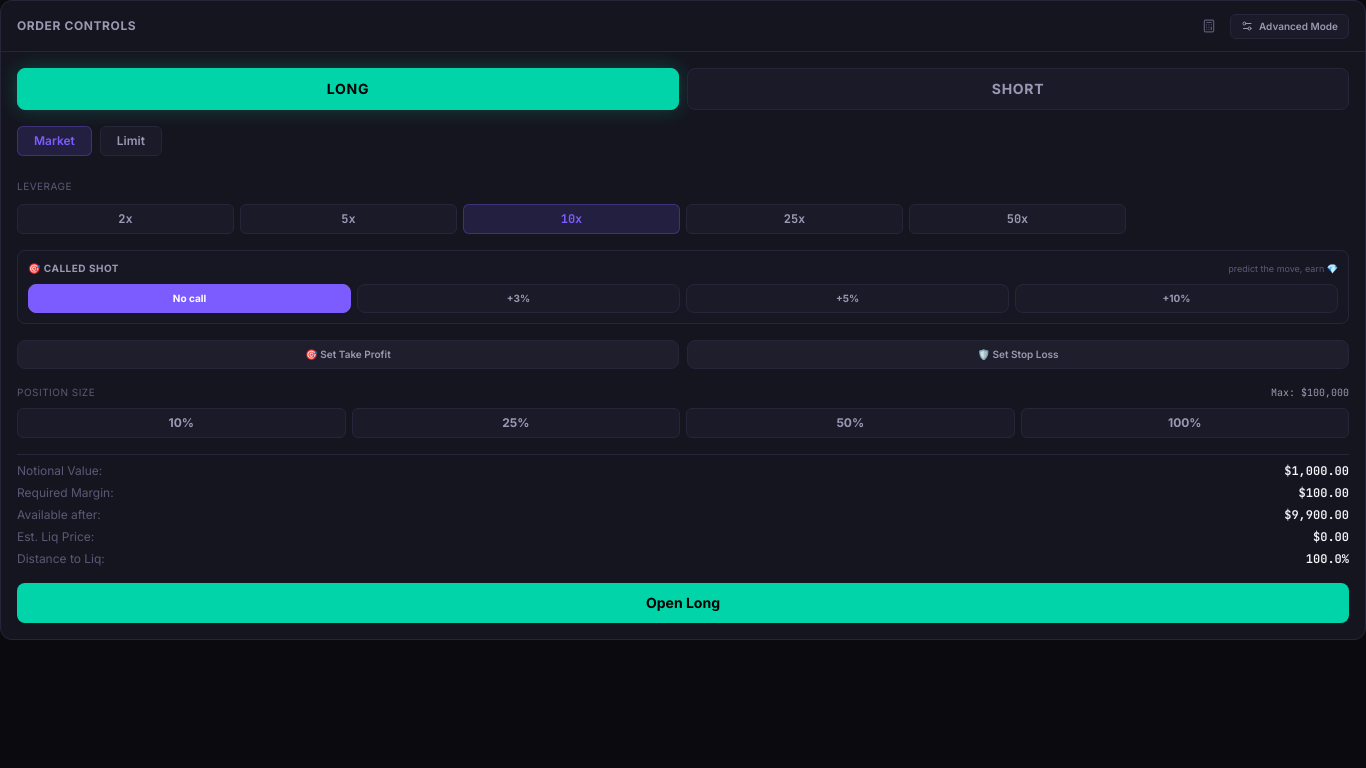
TradeControls — high leverage modal full flow › modal intercepts open when leverage >= 50 and skipHighLeverageWarning is false
Note: Select 50x leverage
Click the radio button "50x".
click(1018, 219)  # box [909,204,1126,234]
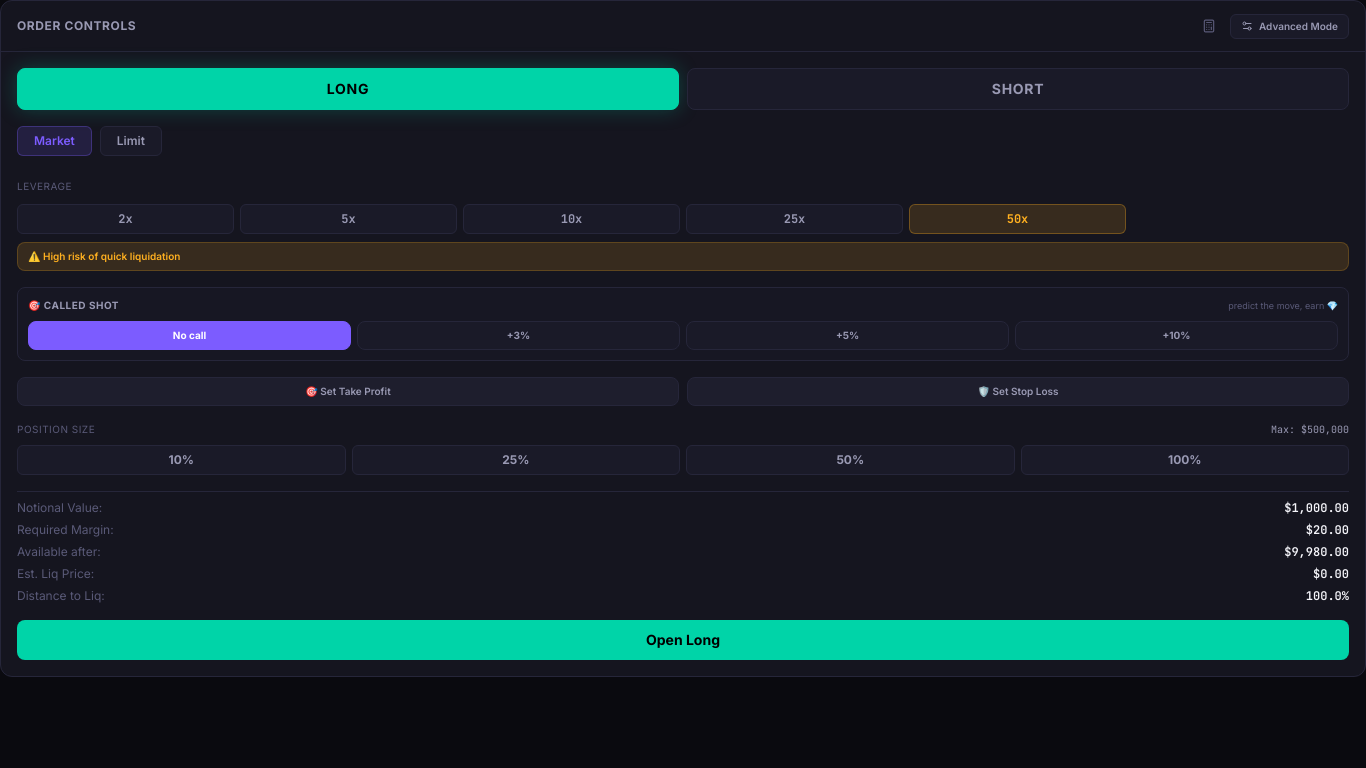
Note: Click Open Long
Click the button "Open Long".
click(683, 640)  # box [17,620,1349,660]
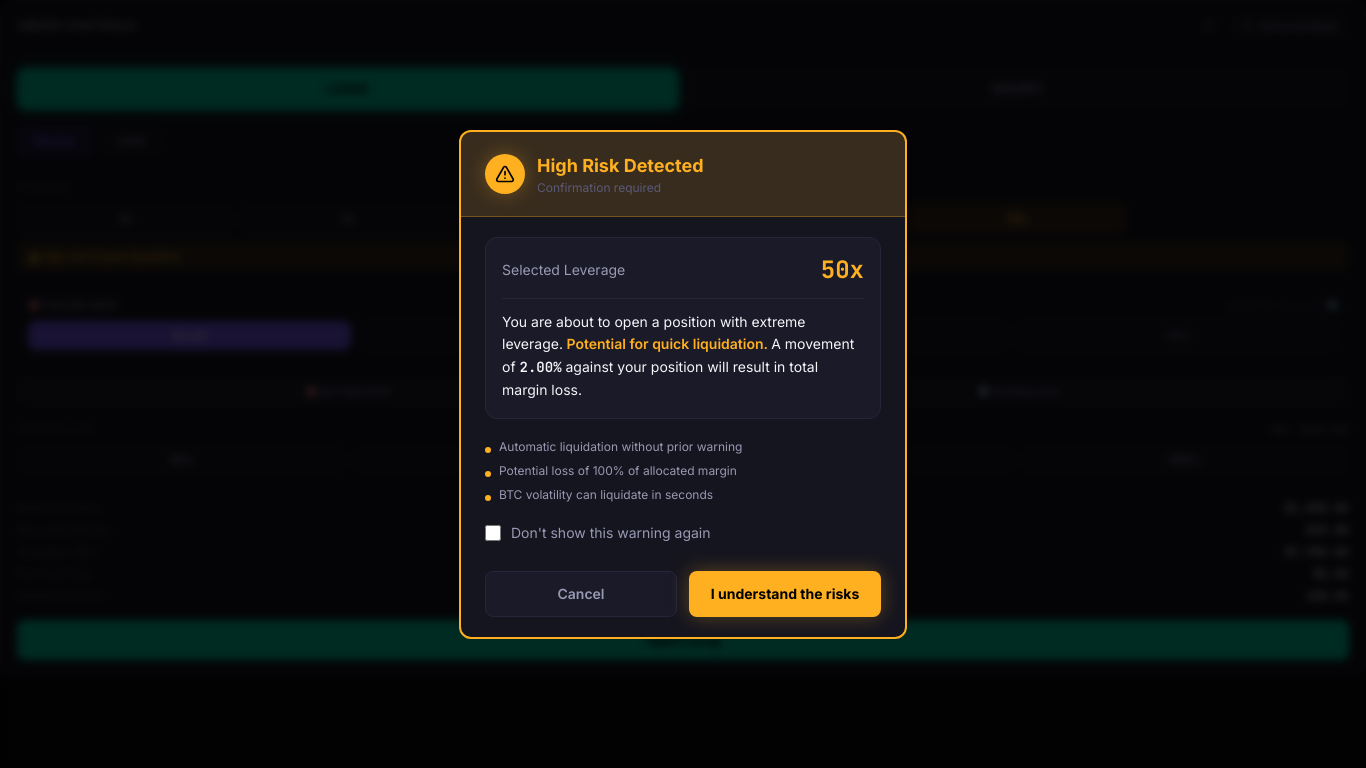
Now the dialog is shown
